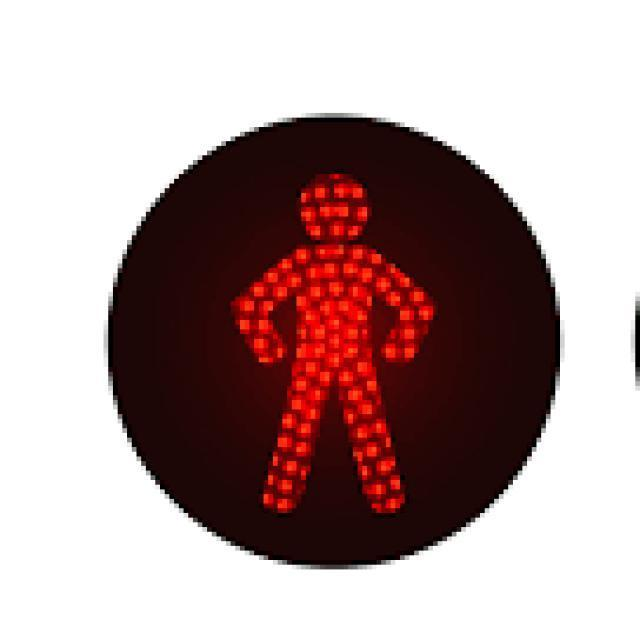red-crossing: (221, 148, 438, 540)
